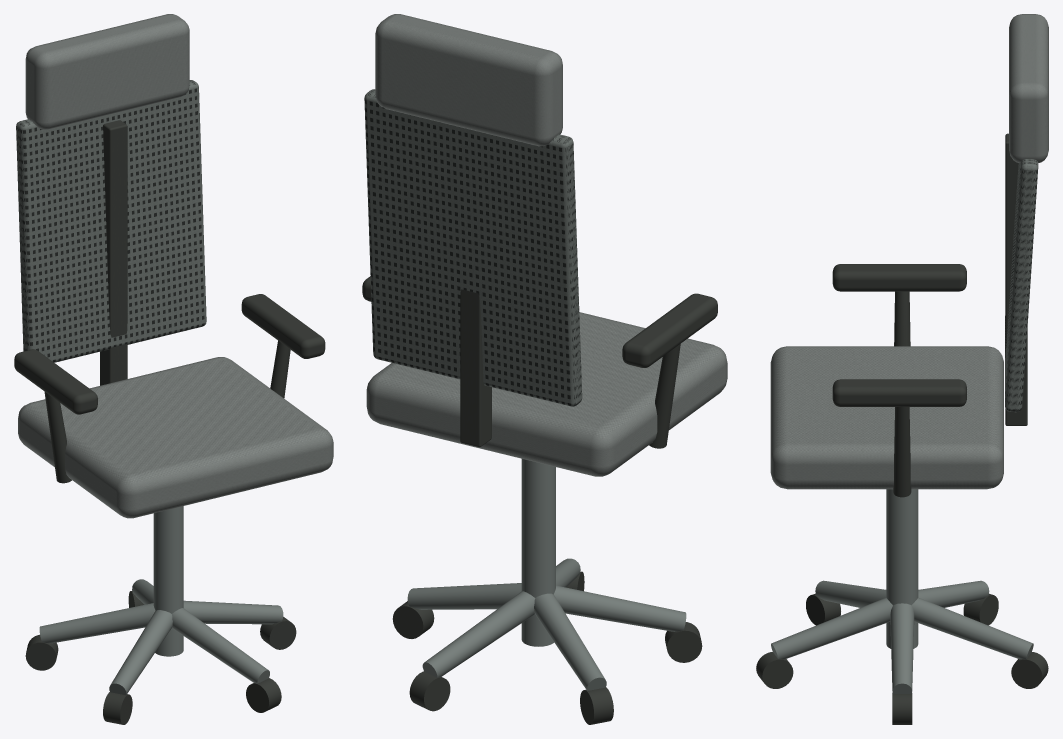
Rendered from markus.glb.
3 views of the same model, side by side, from view 1: azimuth 30°, elevation 25°; view 2: azimuth 150°, elevation 25°; view 3: azimuth 270°, elevation 25° (orthographic). The views are drawn at different scales.
Parts seen in each view (by area): view 1: MARKUS Office chair; view 2: MARKUS Office chair; view 3: MARKUS Office chair.
Part boxes in pixels (x1,y1,x2,y2): MARKUS Office chair: (14,14,333,724); MARKUS Office chair: (362,14,727,724); MARKUS Office chair: (756,14,1048,724).
Bounding box in the file's own units: 0.62 × 1.4 × 0.6.
Materials: 4 (3 with a texture image).
